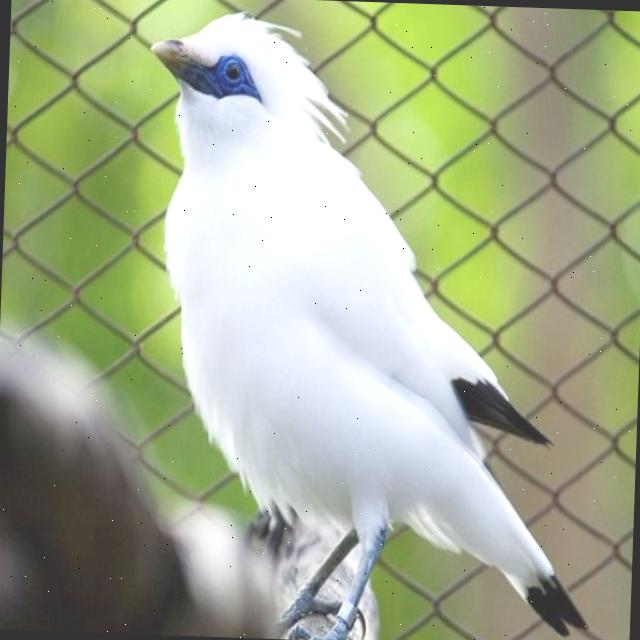Jalak Bali: (109, 0, 632, 640)
